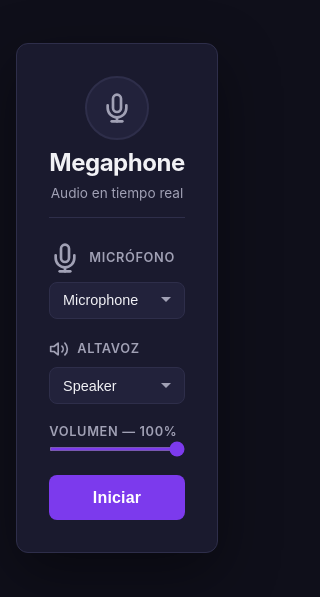
it: App Component › shows level meter section when active
This screenshot has width=320, height=597.
Click the button "Iniciar": (117, 498) [49,475,185,520]
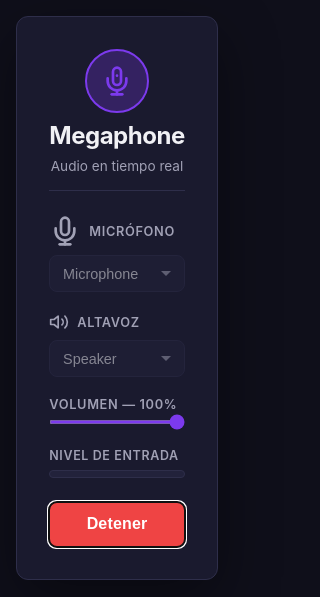
Check: the text "Nivel de entrada" is shown, box [49,448,185,463]
